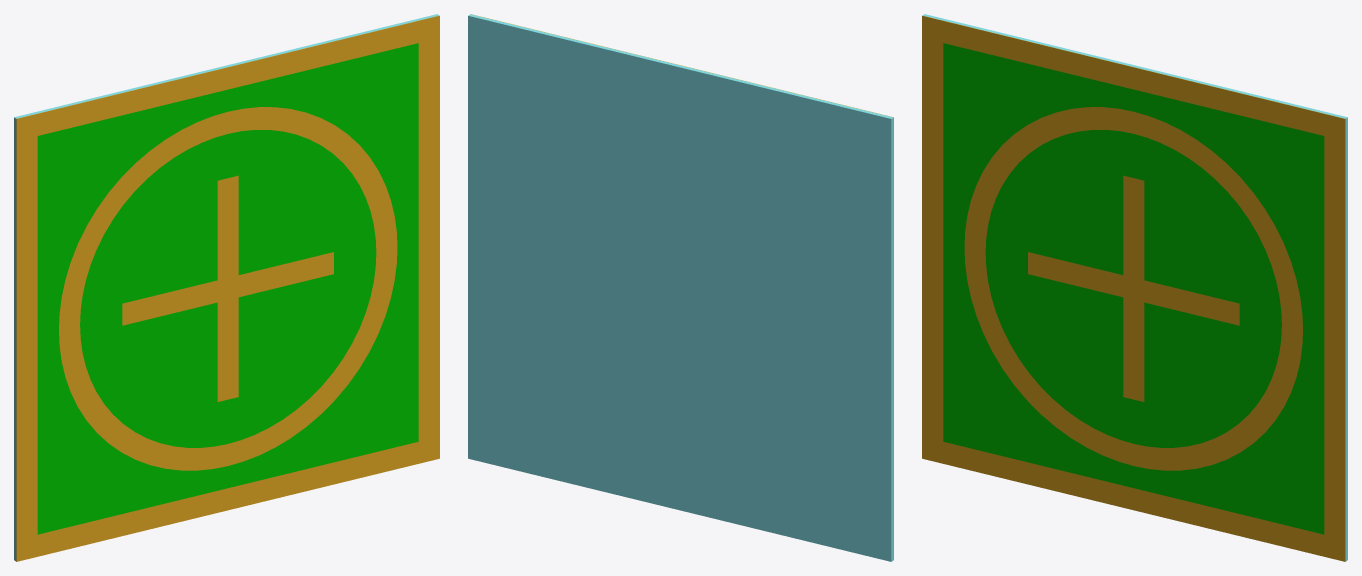
File: landing_platform_green.obj
3 renders of one model, left to right at view 1: azimuth 30°, elevation 25°; view 2: azimuth 150°, elevation 25°; view 3: azimuth 330°, elevation 25°, orthographic.
Visible parts, largest first — view 1: landing_platform_blue_circle_Body4.004, landing_platform_blue_frame_Body2.005, landing_platform_yellow_frame_Body1.022, landing_platform_yellow_circle_Body3.004, landing_platform_cross_Body5.003, landing_platform_plate_1_Body1.009; view 2: landing_platform_plate_1_Body1.009, landing_platform_yellow_frame_Body1.022; view 3: landing_platform_blue_circle_Body4.004, landing_platform_blue_frame_Body2.005, landing_platform_yellow_frame_Body1.022, landing_platform_yellow_circle_Body3.004, landing_platform_cross_Body5.003, landing_platform_plate_1_Body1.009.
Part boxes in pixels (box(x1,y1,x2,y2)): landing_platform_blue_circle_Body4.004: box(80, 130, 376, 447); landing_platform_blue_frame_Body2.005: box(37, 43, 418, 534); landing_platform_yellow_frame_Body1.022: box(16, 15, 439, 561); landing_platform_yellow_circle_Body3.004: box(59, 107, 397, 470); landing_platform_cross_Body5.003: box(122, 175, 333, 401); landing_platform_plate_1_Body1.009: box(14, 14, 438, 561); landing_platform_plate_1_Body1.009: box(468, 14, 893, 561); landing_platform_yellow_frame_Body1.022: box(470, 14, 893, 559); landing_platform_blue_circle_Body4.004: box(985, 130, 1281, 447); landing_platform_blue_frame_Body2.005: box(943, 43, 1324, 534); landing_platform_yellow_frame_Body1.022: box(922, 15, 1345, 561); landing_platform_yellow_circle_Body3.004: box(964, 107, 1302, 470); landing_platform_cross_Body5.003: box(1028, 175, 1239, 401); landing_platform_plate_1_Body1.009: box(923, 14, 1347, 561).
Bounding box in the file's own units: 1 × 1 × 0.00988.
